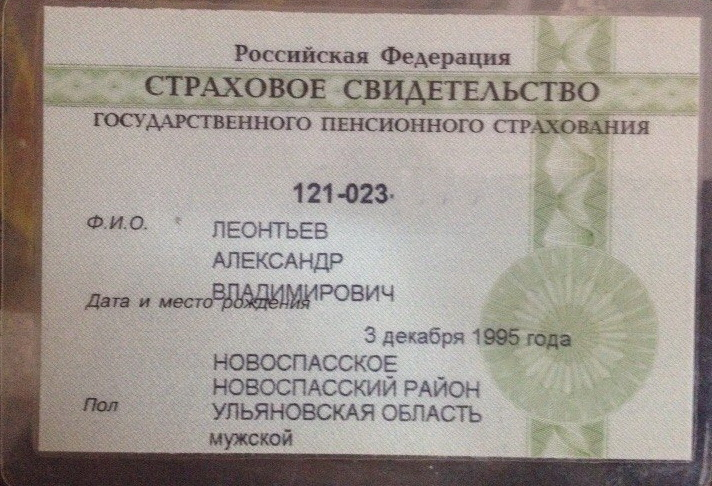text: (204, 348, 493, 423), (355, 320, 582, 350), (206, 276, 401, 307), (200, 245, 349, 274), (207, 215, 332, 241), (288, 179, 396, 208), (203, 423, 301, 450)
